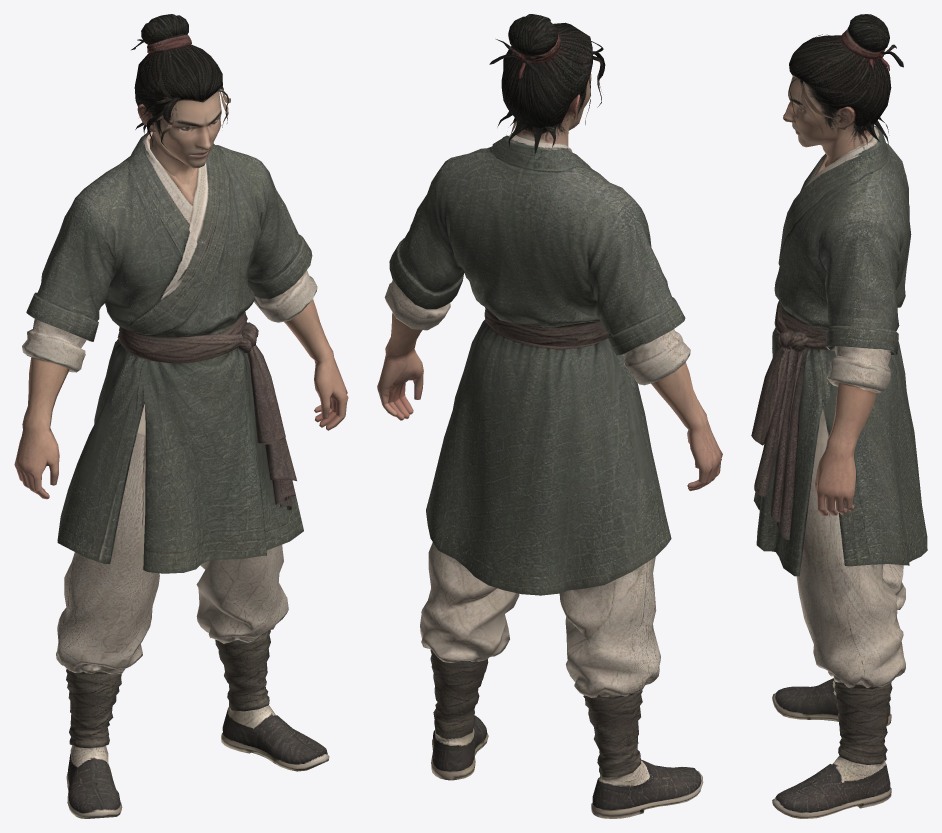
The model's file is zhujue_tripo_v1.glb.
The picture shows the model from 3 angles, left to right: view 1: azimuth 30°, elevation 25°; view 2: azimuth 150°, elevation 25°; view 3: azimuth 270°, elevation 25°; orthographic projection. The views are drawn at different scales.
Visible parts, largest first — view 1: tripo_node_83870138-0110-4ff2-a4be-f8a42bc7138a; view 2: tripo_node_83870138-0110-4ff2-a4be-f8a42bc7138a; view 3: tripo_node_83870138-0110-4ff2-a4be-f8a42bc7138a.
Boxes of the visible parts, box(x1,y1,x2,y2) form: tripo_node_83870138-0110-4ff2-a4be-f8a42bc7138a: box(14, 14, 348, 818); tripo_node_83870138-0110-4ff2-a4be-f8a42bc7138a: box(377, 14, 722, 818); tripo_node_83870138-0110-4ff2-a4be-f8a42bc7138a: box(751, 14, 927, 818).
Size of the model in its own units: 0.4565 by 0.9995 by 0.2153.
Materials: 1 (1 with a texture image).
